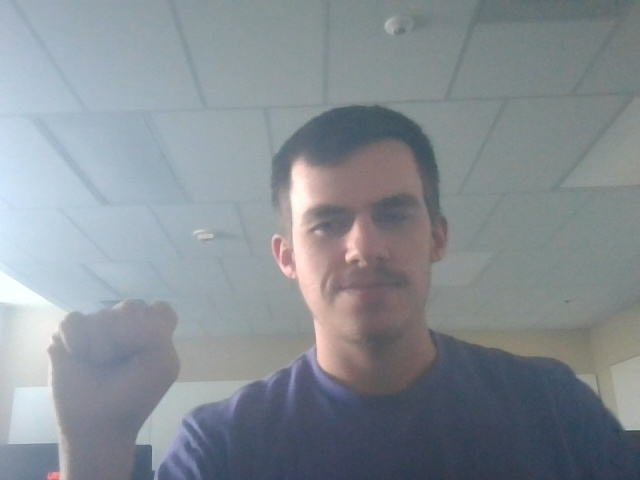yes: (30, 293, 210, 435)
